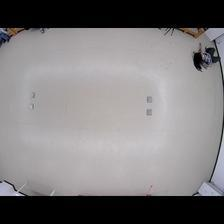fall: (192, 42, 220, 72)
